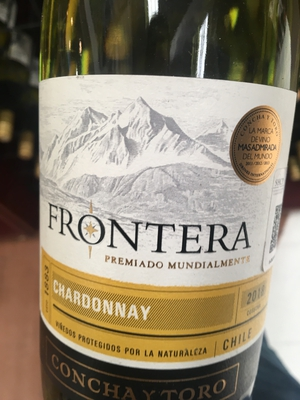frontera chardonnay: (28, 1, 294, 396)
